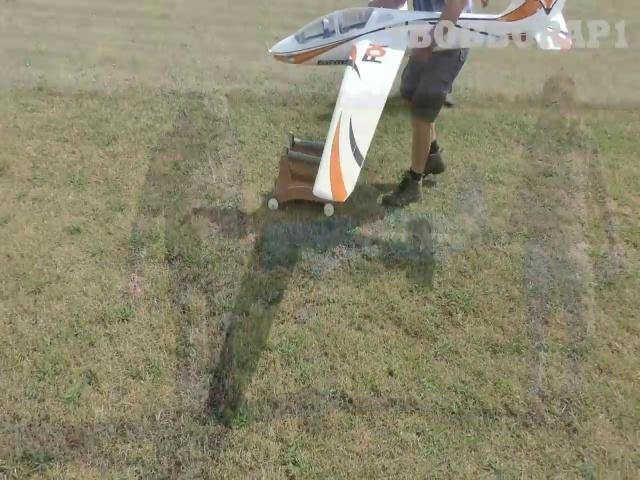Airplane: (271, 1, 571, 203)
